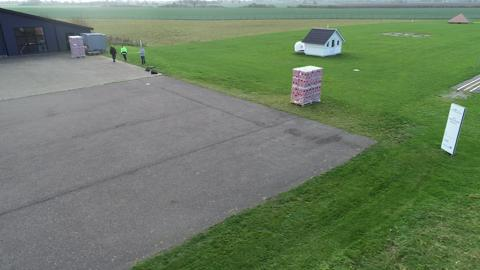RockwoolPallet: (67, 35, 86, 59)
